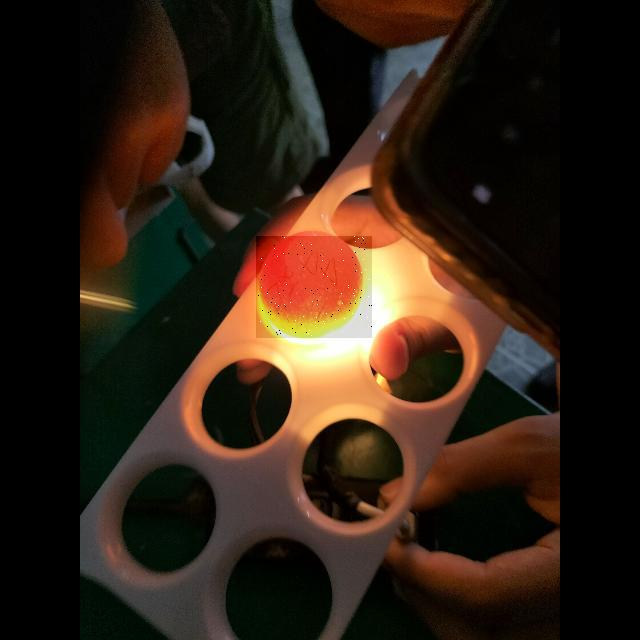Infertile: (256, 236, 372, 338)
